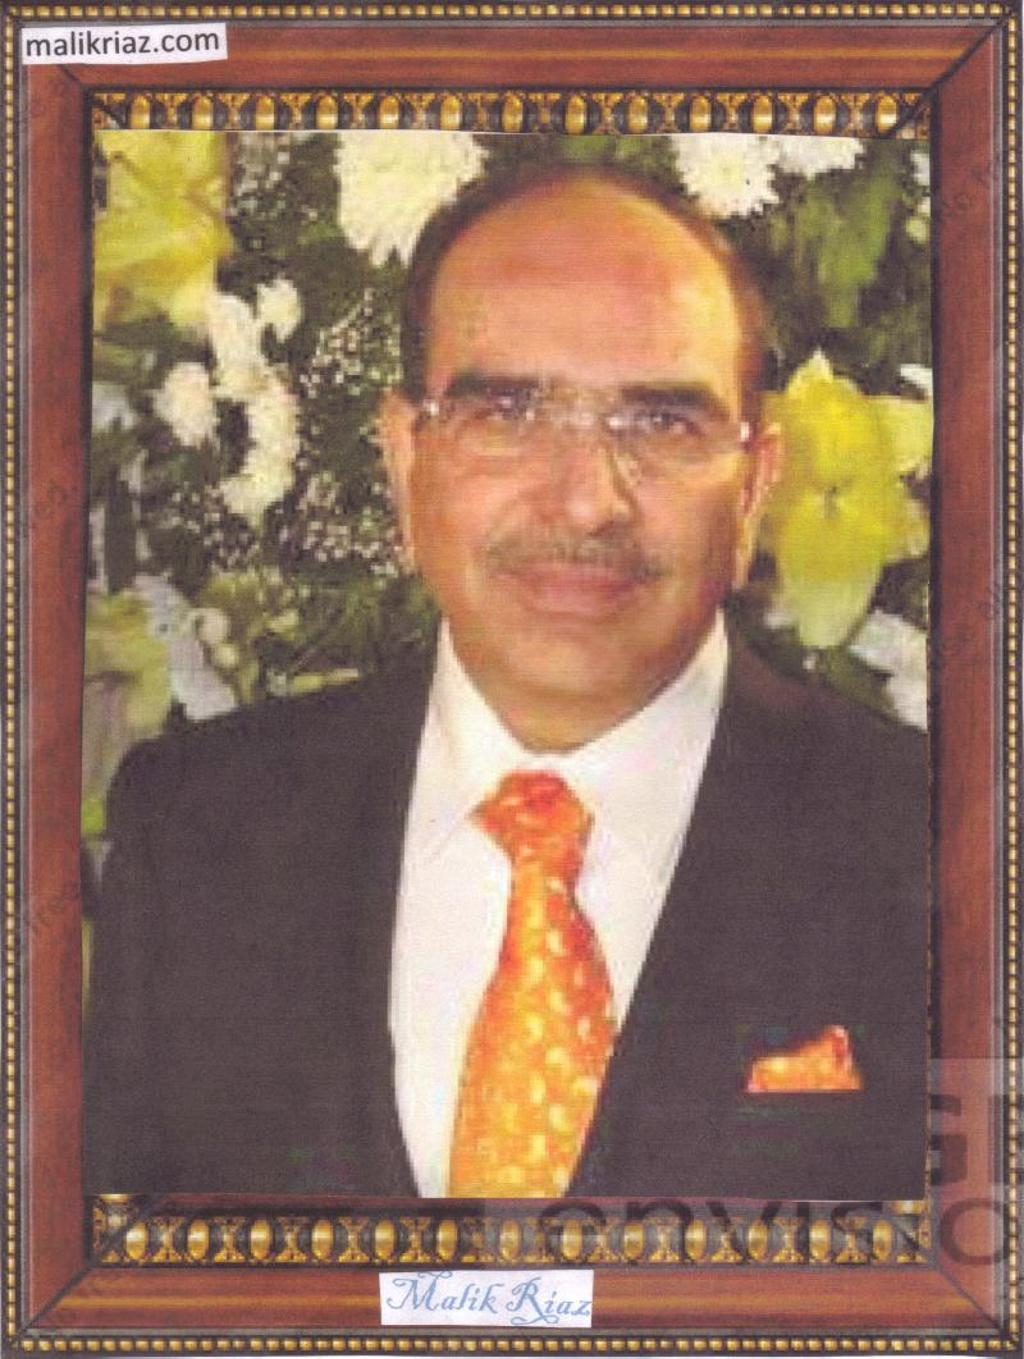face: (419, 212, 751, 690)
